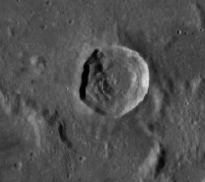crater: (62, 33, 164, 131)
